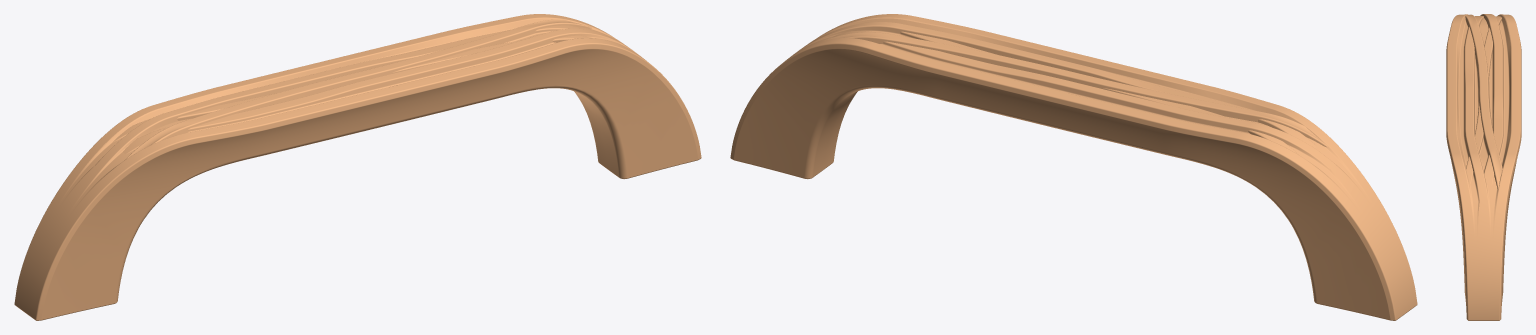
The picture shows the model from 3 angles, left to right: view 1: azimuth 30°, elevation 25°; view 2: azimuth 150°, elevation 25°; view 3: azimuth 270°, elevation 25°; orthographic projection. The views are drawn at different scales.
Visible parts, largest first — view 1: FC001-128-A; view 2: FC001-128-A; view 3: FC001-128-A.
Boxes of the visible parts, x1,y1,x2,y2 form: FC001-128-A: (14,14,701,320); FC001-128-A: (730,14,1417,320); FC001-128-A: (1446,14,1521,320).
Bounding box in the file's own units: 146 × 33 × 19.6.
